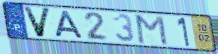1: (176, 17, 192, 48)
2: (83, 11, 109, 41)
3: (111, 13, 136, 44)
A: (54, 10, 86, 40)
M: (134, 14, 169, 47)
V: (22, 5, 54, 39)
